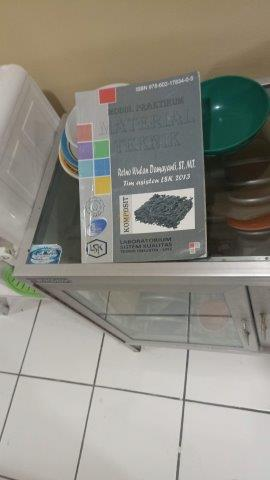kertas: (73, 69, 207, 264)
